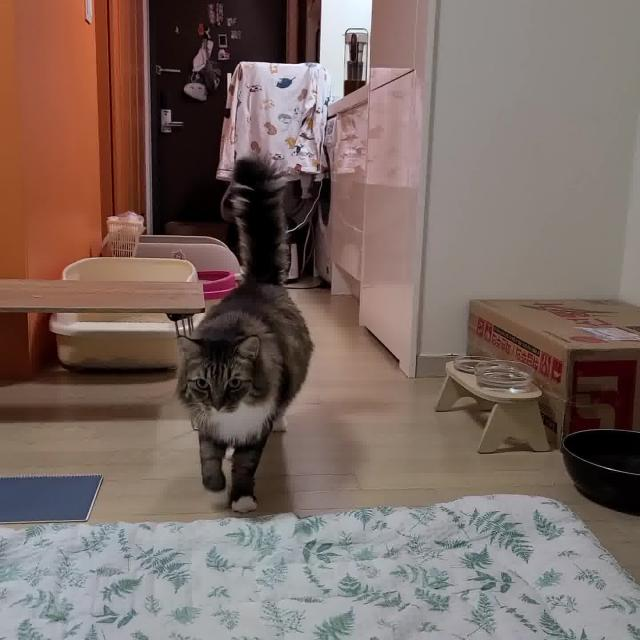cat: (152, 145, 336, 536)
